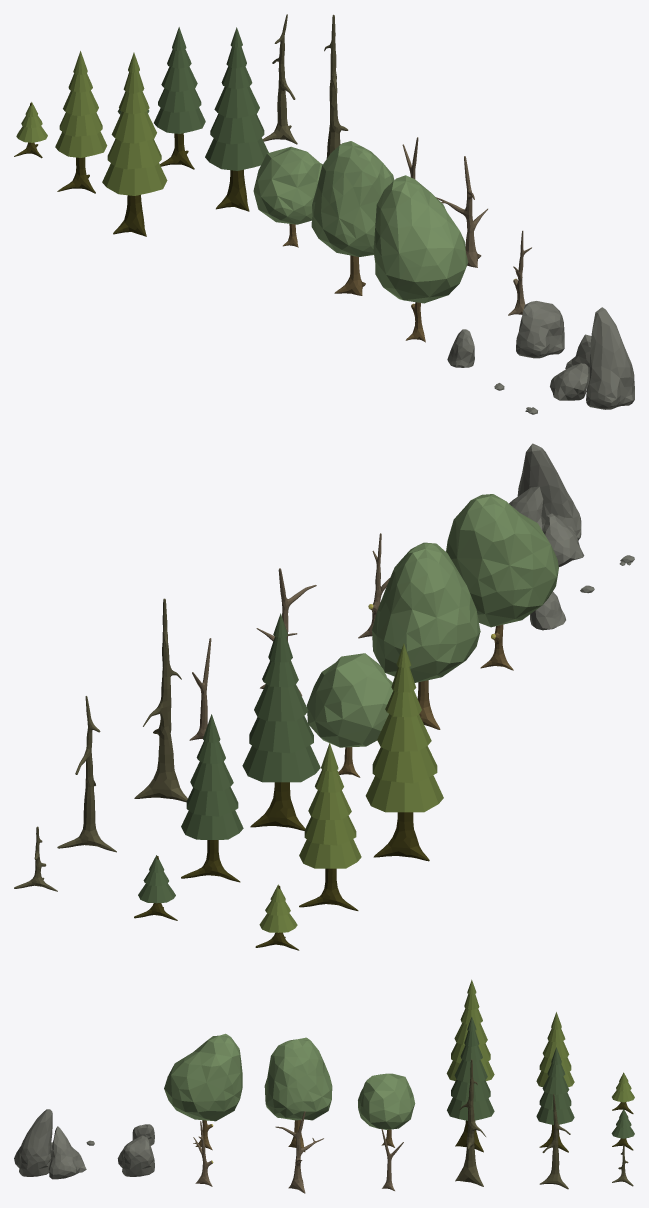
The picture shows the model from 3 angles, top to bottom: view 1: azimuth 30°, elevation 25°; view 2: azimuth 150°, elevation 25°; view 3: azimuth 270°, elevation 25°; orthographic projection. The views are drawn at different scales.
Visible parts, largest first — view 1: trunk, trunk.001, trunk.007, trunk.006, Icosphere.005, trunk.002, trunk.009, trunk.008, Icosphere.004, trunk.013, trunk.010, trunk.004 (+2 smaller); view 2: trunk.001, trunk, trunk.007, trunk.006, trunk.002, trunk.008, trunk.009, Icosphere.005, trunk.010, trunk.013, trunk.012, trunk.011 (+1 smaller); view 3: trunk, trunk.001, Icosphere.005, trunk.002, trunk.006, trunk.008, trunk.007, Icosphere.004, trunk.009, trunk.010, trunk.013, trunk.004 (+4 smaller).
Boxes of the visible parts, left/top/right/bottom form: trunk: left=373, top=175, right=468, bottom=342; trunk.001: left=311, top=141, right=394, bottom=295; trunk.007: left=102, top=52, right=167, bottom=236; trunk.006: left=205, top=27, right=268, bottom=211; Icosphere.005: left=550, top=307, right=634, bottom=409; trunk.002: left=253, top=146, right=322, bottom=247; trunk.009: left=55, top=51, right=107, bottom=193; trunk.008: left=154, top=27, right=205, bottom=169; Icosphere.004: left=516, top=301, right=564, bottom=358; trunk.013: left=263, top=14, right=297, bottom=144; trunk.010: left=324, top=14, right=348, bottom=158; trunk.004: left=436, top=156, right=487, bottom=267; trunk.001: left=372, top=542, right=480, bottom=729; trunk: left=446, top=494, right=558, bottom=670; trunk.007: left=365, top=643, right=443, bottom=861; trunk.006: left=242, top=613, right=320, bottom=830; trunk.002: left=306, top=653, right=392, bottom=777; trunk.008: left=181, top=714, right=243, bottom=882; trunk.009: left=299, top=743, right=361, bottom=910; Icosphere.005: left=509, top=443, right=584, bottom=566; trunk.010: left=134, top=598, right=187, bottom=802; trunk.013: left=57, top=696, right=116, bottom=852; trunk.012: left=255, top=884, right=299, bottom=950; trunk.011: left=134, top=855, right=177, bottom=920; trunk: left=164, top=1033, right=242, bottom=1150; trunk.001: left=264, top=1037, right=332, bottom=1151; Icosphere.005: left=14, top=1109, right=86, bottom=1179; trunk.002: left=358, top=1073, right=415, bottom=1147; trunk.006: left=447, top=1016, right=494, bottom=1152; trunk.008: left=536, top=1047, right=574, bottom=1152; trunk.007: left=446, top=979, right=494, bottom=1081; Icosphere.004: left=117, top=1135, right=154, bottom=1176; trunk.009: left=536, top=1012, right=574, bottom=1087; trunk.010: left=455, top=1059, right=485, bottom=1186; trunk.013: left=539, top=1094, right=570, bottom=1189; trunk.004: left=275, top=1111, right=323, bottom=1193.
Size of the model in its own units: 2839 by 1813 by 7797.
